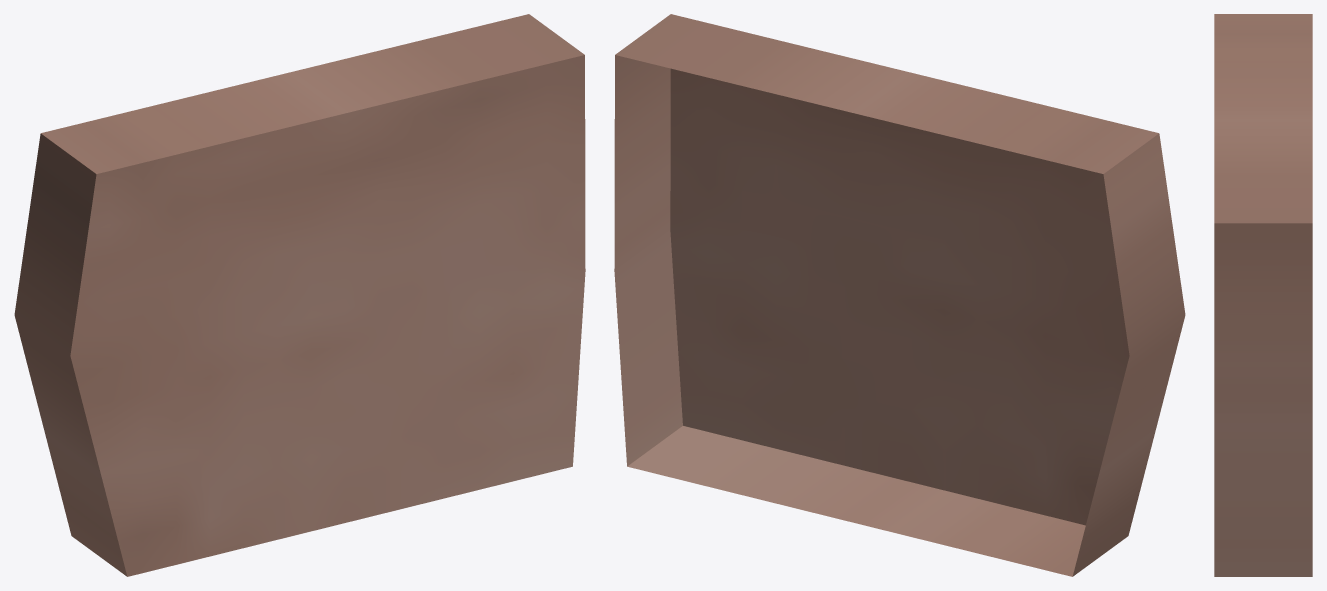
The model's file is button_4.fbx.
3 views of the same model, side by side, from view 1: azimuth 30°, elevation 25°; view 2: azimuth 150°, elevation 25°; view 3: azimuth 270°, elevation 25° (orthographic). The views are drawn at different scales.
Parts seen in each view (by area): view 1: button_4; view 2: button_4; view 3: button_4.
Part boxes in pixels (x1,y1,x2,y2): button_4: [14, 14, 585, 576]; button_4: [614, 14, 1185, 576]; button_4: [1214, 14, 1312, 576].
Size of the model in its own units: 12.01 by 9.15 by 2.26.
